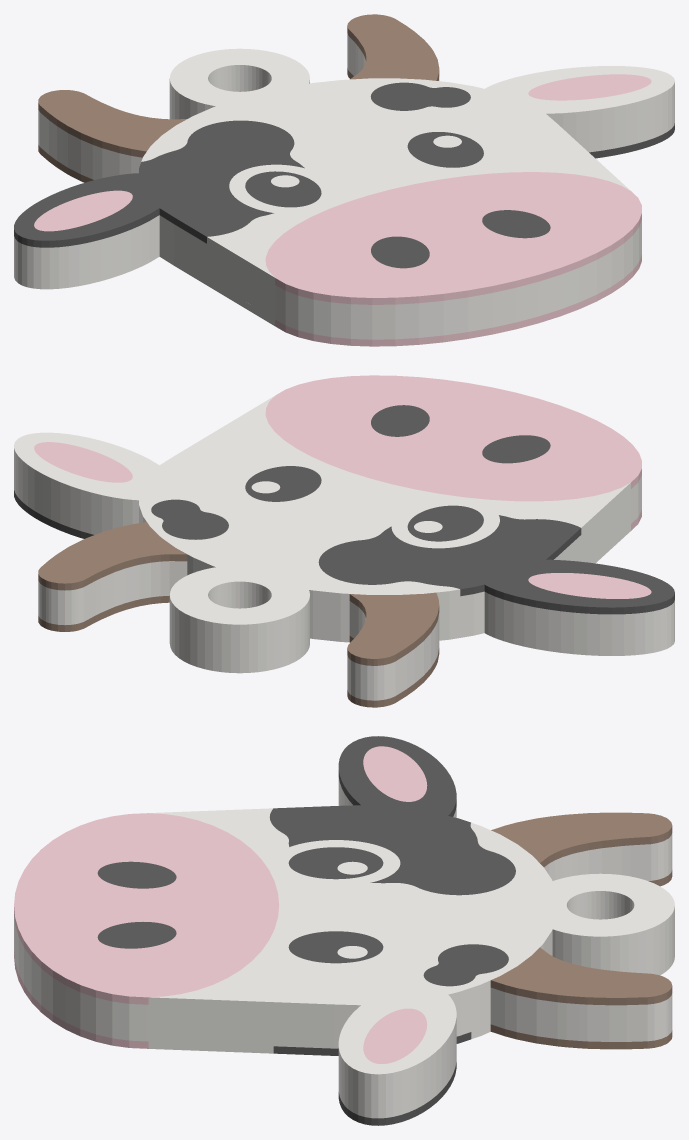
Rendered from CRW-001-cowaramup-keyring-classic.glb.
3 renders of one model, top to bottom at view 1: azimuth 30°, elevation 25°; view 2: azimuth 150°, elevation 25°; view 3: azimuth 270°, elevation 25°, orthographic. The views are drawn at different scales.
Visible parts, largest first — view 1: T1 tool_1 [PLA Cow White] - core body, eye highlights, eye r, T3 tool_3 [PLA Cow Pink] - muzzle, inner ears, T2 tool_2 [PLA Cow Black] - eyes, nostrils, forehead spot, s, T4 tool_4 [TPU Earth Brown] - horns; view 2: T1 tool_1 [PLA Cow White] - core body, eye highlights, eye r, T3 tool_3 [PLA Cow Pink] - muzzle, inner ears, T2 tool_2 [PLA Cow Black] - eyes, nostrils, forehead spot, s, T4 tool_4 [TPU Earth Brown] - horns; view 3: T1 tool_1 [PLA Cow White] - core body, eye highlights, eye r, T3 tool_3 [PLA Cow Pink] - muzzle, inner ears, T2 tool_2 [PLA Cow Black] - eyes, nostrils, forehead spot, s, T4 tool_4 [TPU Earth Brown] - horns.
Boxes of the visible parts, x1=… form: T1 tool_1 [PLA Cow White] - core body, eye highlights, eye r: x1=14, y1=33, x2=674, y2=339; T3 tool_3 [PLA Cow Pink] - muzzle, inner ears: x1=34, y1=74, x2=651, y2=346; T2 tool_2 [PLA Cow Black] - eyes, nostrils, forehead spot, s: x1=14, y1=82, x2=674, y2=268; T4 tool_4 [TPU Earth Brown] - horns: x1=38, y1=14, x2=439, y2=182; T1 tool_1 [PLA Cow White] - core body, eye highlights, eye r: x1=14, y1=396, x2=674, y2=700; T3 tool_3 [PLA Cow Pink] - muzzle, inner ears: x1=34, y1=375, x2=651, y2=598; T2 tool_2 [PLA Cow Black] - eyes, nostrils, forehead spot, s: x1=14, y1=405, x2=674, y2=614; T4 tool_4 [TPU Earth Brown] - horns: x1=38, y1=522, x2=439, y2=707; T1 tool_1 [PLA Cow White] - core body, eye highlights, eye r: x1=14, y1=777, x2=674, y2=1118; T3 tool_3 [PLA Cow Pink] - muzzle, inner ears: x1=14, y1=746, x2=427, y2=1063; T2 tool_2 [PLA Cow Black] - eyes, nostrils, forehead spot, s: x1=97, y1=736, x2=515, y2=1125; T4 tool_4 [TPU Earth Brown] - horns: x1=490, y1=812, x2=672, y2=1049.
Bounding box in the file's own units: 0.0591 × 0.0042 × 0.0488.
